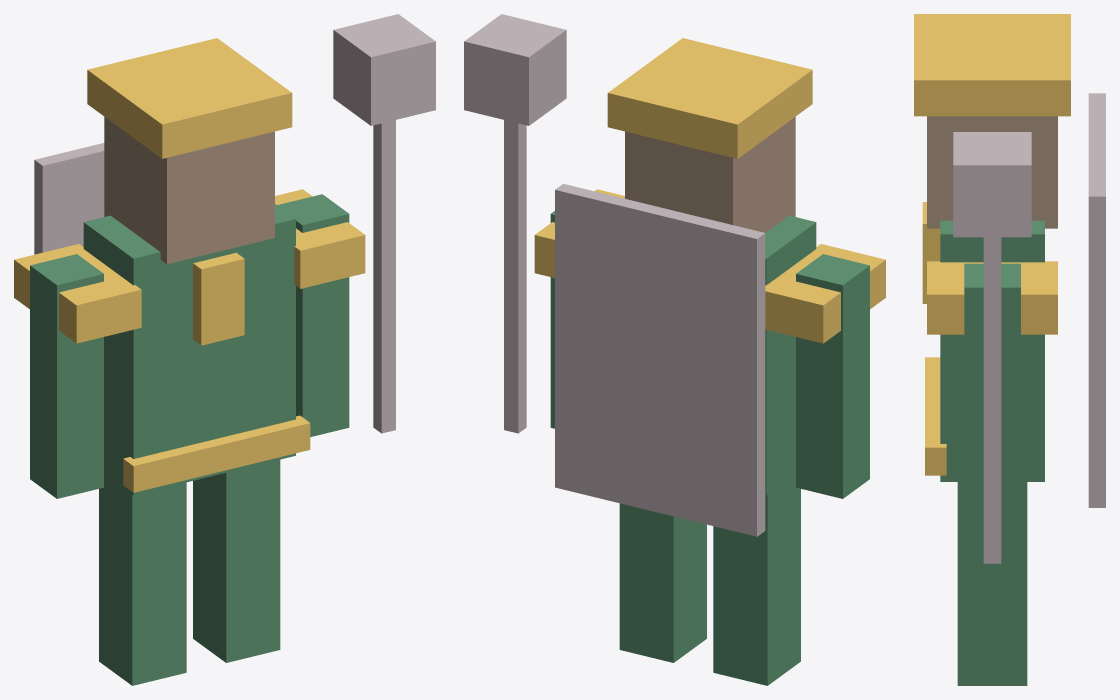
The model's file is 20_zerin_mossguard_sentinel_near.glb.
The picture shows the model from 3 angles, left to right: view 1: azimuth 30°, elevation 25°; view 2: azimuth 150°, elevation 25°; view 3: azimuth 270°, elevation 25°; orthographic projection. The views are drawn at different scales.
Parts seen in each view (by area): view 1: Zerin Mossguard, Sentinel near; view 2: Zerin Mossguard, Sentinel near; view 3: Zerin Mossguard, Sentinel near.
Part boxes in pixels (x1,y1,x2,y2): Zerin Mossguard, Sentinel near: [14, 14, 435, 685]; Zerin Mossguard, Sentinel near: [464, 14, 885, 685]; Zerin Mossguard, Sentinel near: [914, 14, 1105, 685].
Size of the model in its own units: 1.06 by 1.56 by 0.4512.
